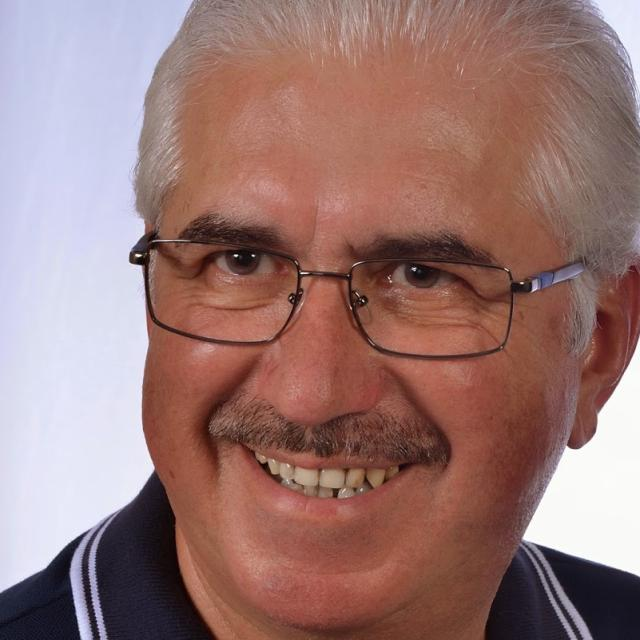Normal: (142, 48, 578, 636)
